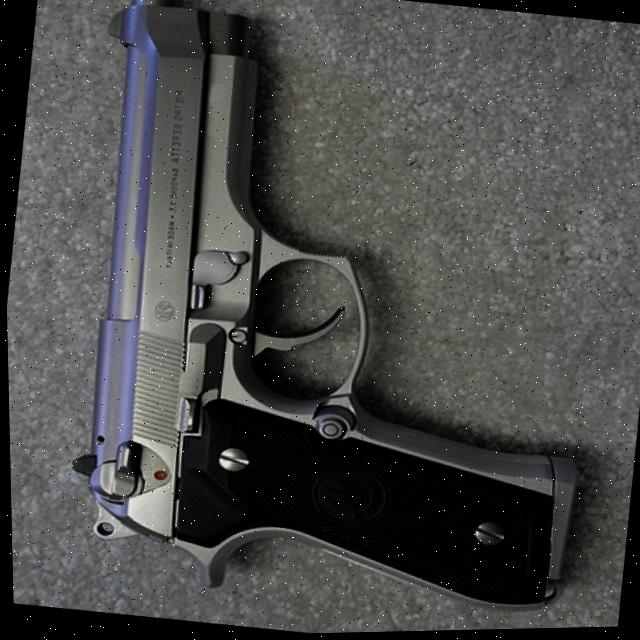pistol: (38, 0, 635, 639)
